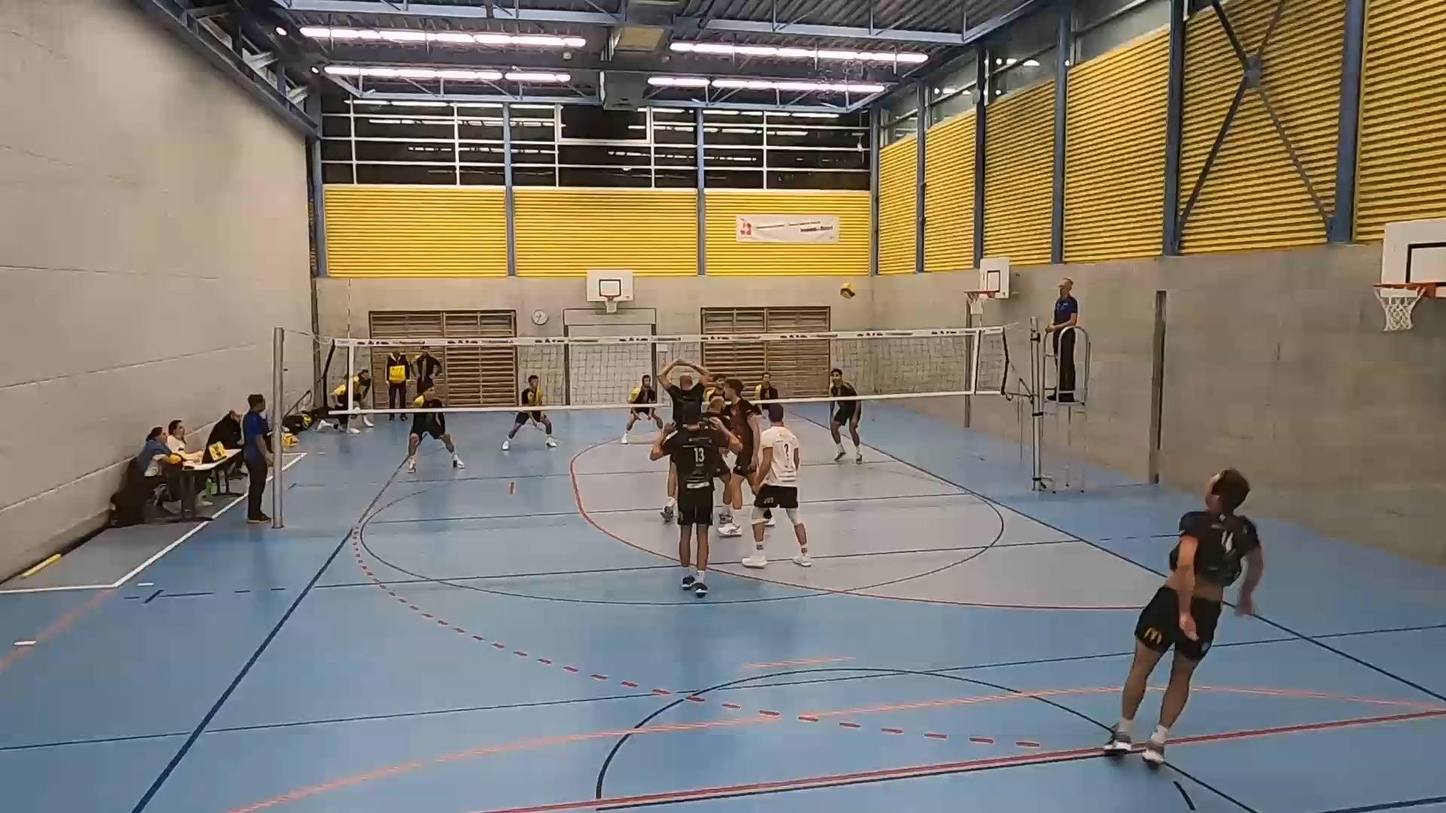Player: (650, 404, 738, 597), (742, 411, 811, 568), (718, 379, 761, 537), (407, 385, 465, 472), (502, 375, 557, 450), (658, 359, 708, 425), (830, 400, 863, 463), (621, 406, 663, 443), (707, 395, 731, 430), (753, 372, 778, 403), (703, 373, 725, 402)
Serve: (1105, 463, 1267, 771)
ball: (839, 280, 855, 298)
